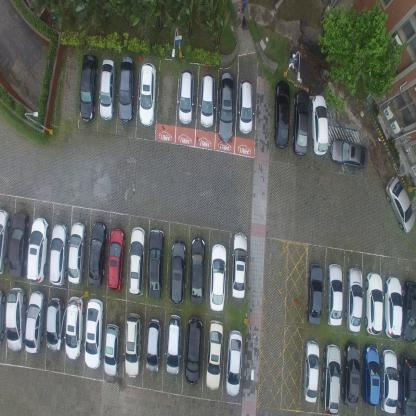car: (386, 174, 416, 235), (26, 214, 49, 283), (320, 343, 341, 415), (5, 286, 27, 352), (8, 210, 29, 278), (84, 298, 104, 369), (206, 318, 225, 392), (106, 227, 127, 293), (25, 288, 46, 354), (78, 54, 98, 122), (185, 315, 204, 385), (49, 220, 69, 286), (65, 294, 85, 360), (331, 137, 368, 172), (341, 341, 360, 409), (128, 226, 146, 296), (272, 78, 290, 147), (66, 222, 86, 284), (138, 61, 157, 126), (147, 229, 164, 301), (226, 329, 244, 397), (292, 89, 310, 156), (88, 222, 106, 288), (366, 270, 384, 336), (385, 273, 403, 339), (230, 232, 247, 301), (346, 264, 363, 333), (218, 70, 234, 143), (118, 55, 135, 123), (302, 340, 320, 404), (363, 343, 381, 406), (311, 93, 329, 156), (124, 312, 141, 378), (381, 348, 398, 414), (166, 314, 184, 376), (398, 353, 416, 415), (189, 236, 205, 305), (46, 295, 65, 353), (210, 243, 226, 311), (169, 240, 185, 307), (307, 260, 323, 326), (99, 57, 116, 119), (327, 261, 343, 326), (146, 318, 163, 376), (237, 77, 254, 134), (199, 72, 216, 128), (103, 321, 120, 376), (402, 279, 416, 343), (178, 69, 194, 124), (0, 209, 11, 276), (0, 286, 5, 346)
